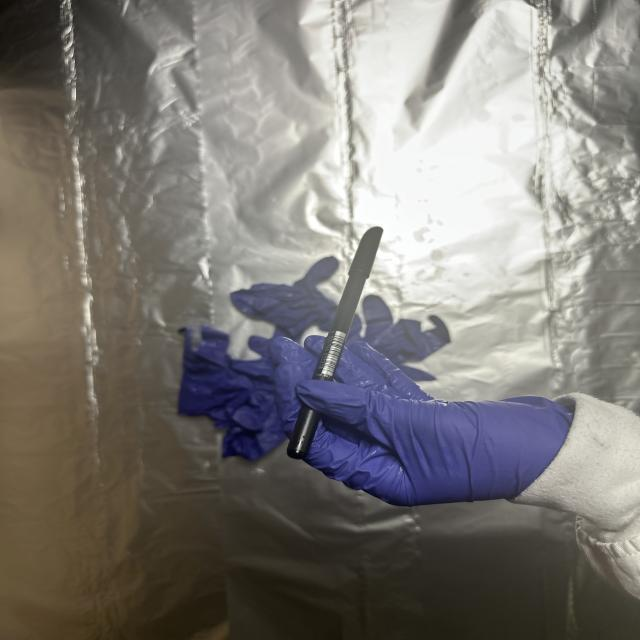gloves_contaminated: (268, 336, 574, 506)
